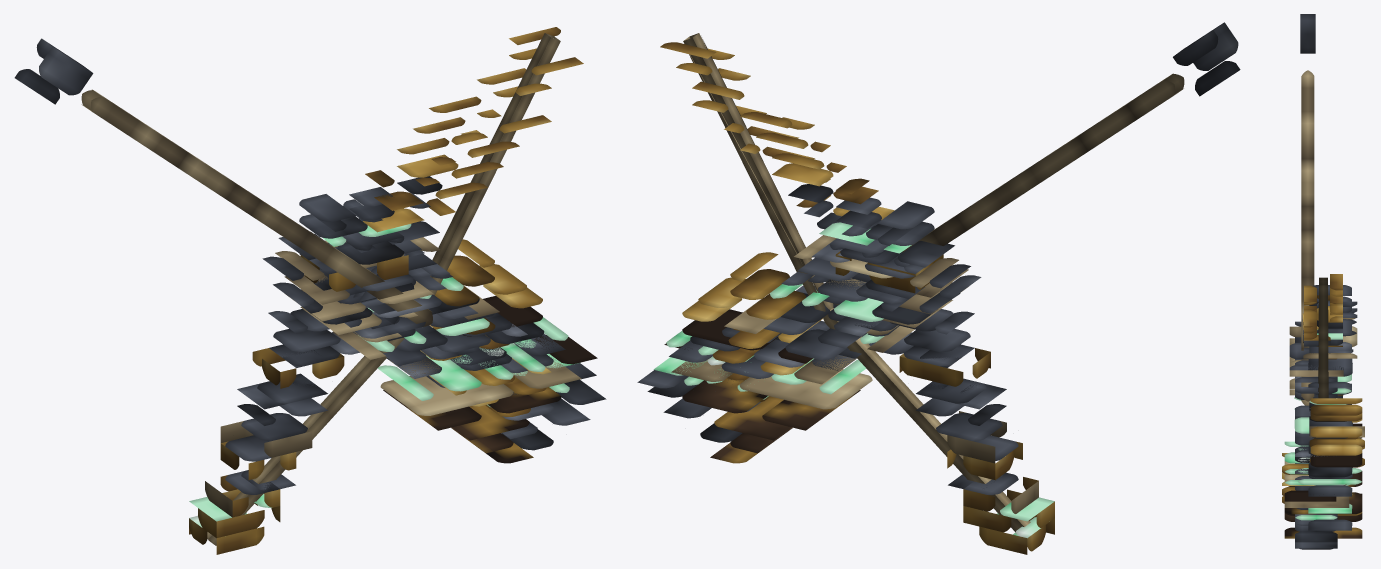
The model's file is steam_arbalest_pulling_0.obj.
3 renders of one model, left to right at view 1: azimuth 30°, elevation 25°; view 2: azimuth 150°, elevation 25°; view 3: azimuth 270°, elevation 25°, orthographic. The views are drawn at different scales.
Visible parts, largest first — view 1: lit, fire; view 2: lit, fire; view 3: lit, fire.
Part boxes in pixels (x1,y1,x2,y2): lit: [14, 27, 606, 554]; fire: [353, 267, 551, 416]; lit: [637, 22, 1240, 554]; fire: [713, 297, 811, 401]; lit: [1284, 14, 1362, 549]; fire: [1282, 426, 1364, 503].
Size of the model in its own units: 1.13 by 1.03 by 0.2096.
